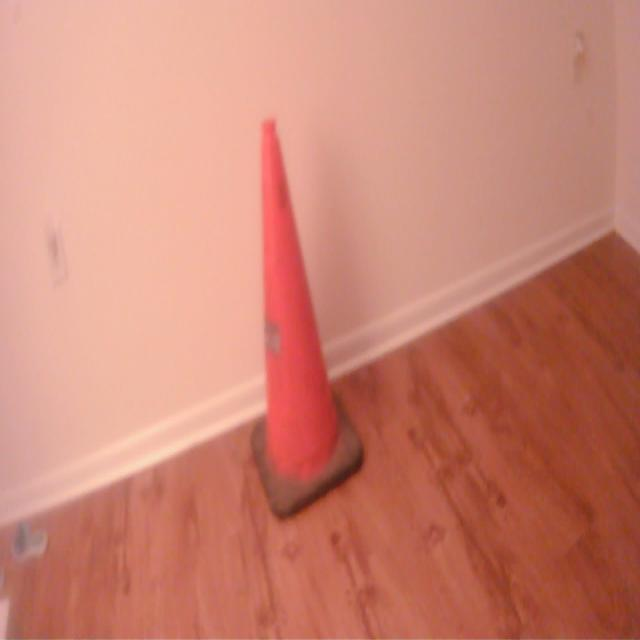traffic cone: (248, 112, 369, 525)
